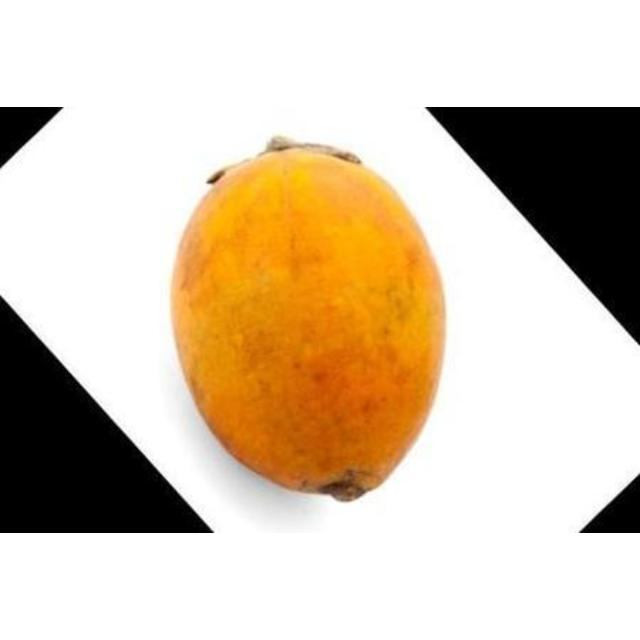good: (166, 145, 449, 505)
